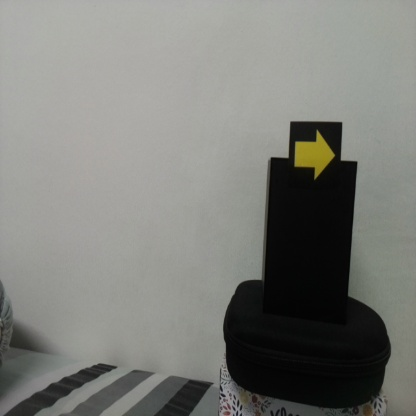id_3: (290, 123, 341, 193)
